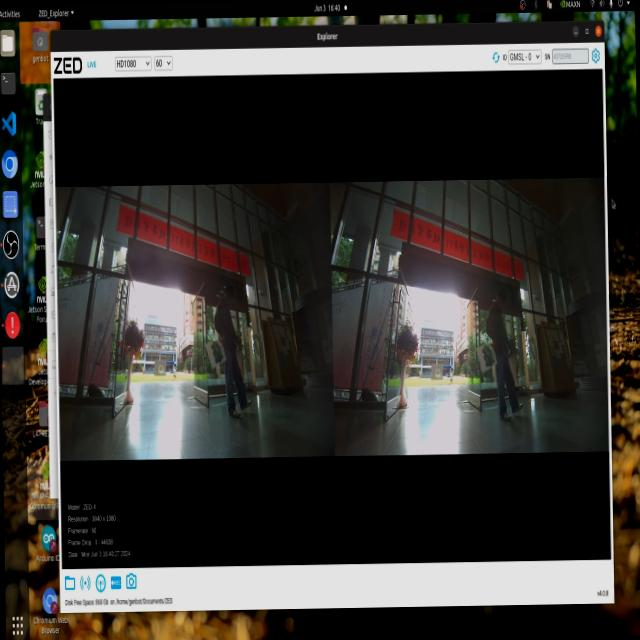green: (478, 341, 498, 374), (206, 338, 223, 368)
